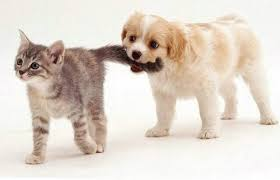cat: (9, 30, 123, 161)
dog: (121, 10, 280, 142)
